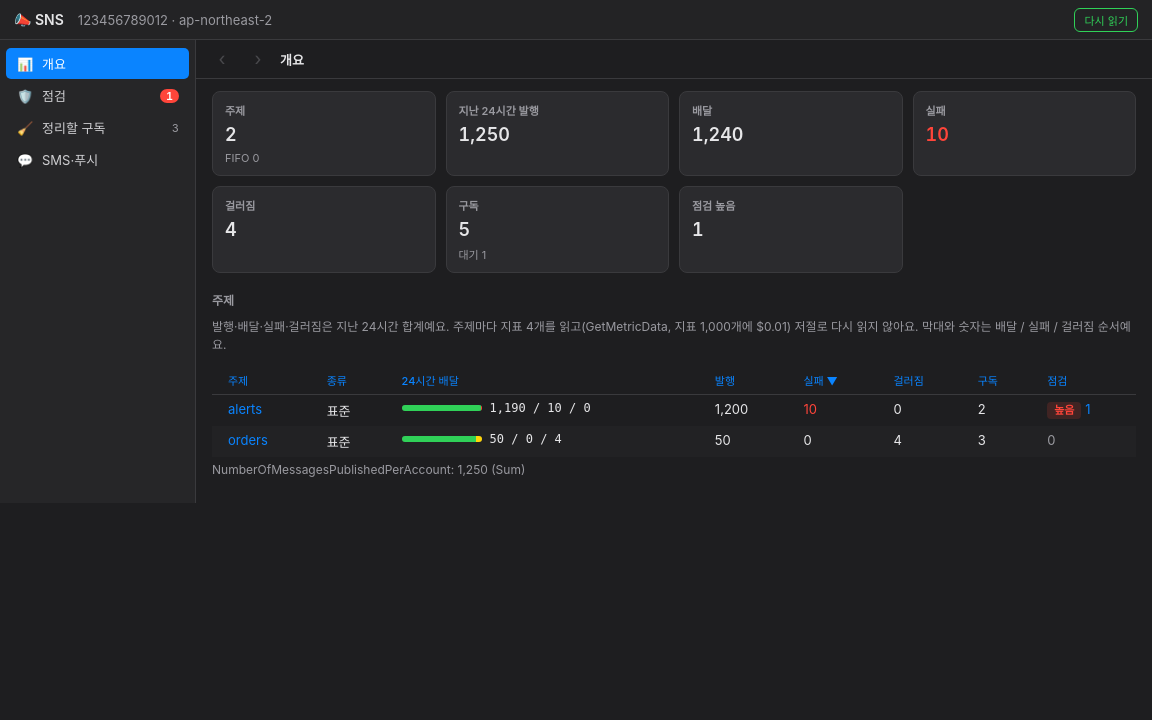
it: previously disabled checks can be turned back on
Check: the table "주제" is shown, box left=212, top=366, right=1136, bottom=457
Step 1. Click the button "🛡️ 점검 1" → (98,96), box left=6, top=80, right=189, bottom=111
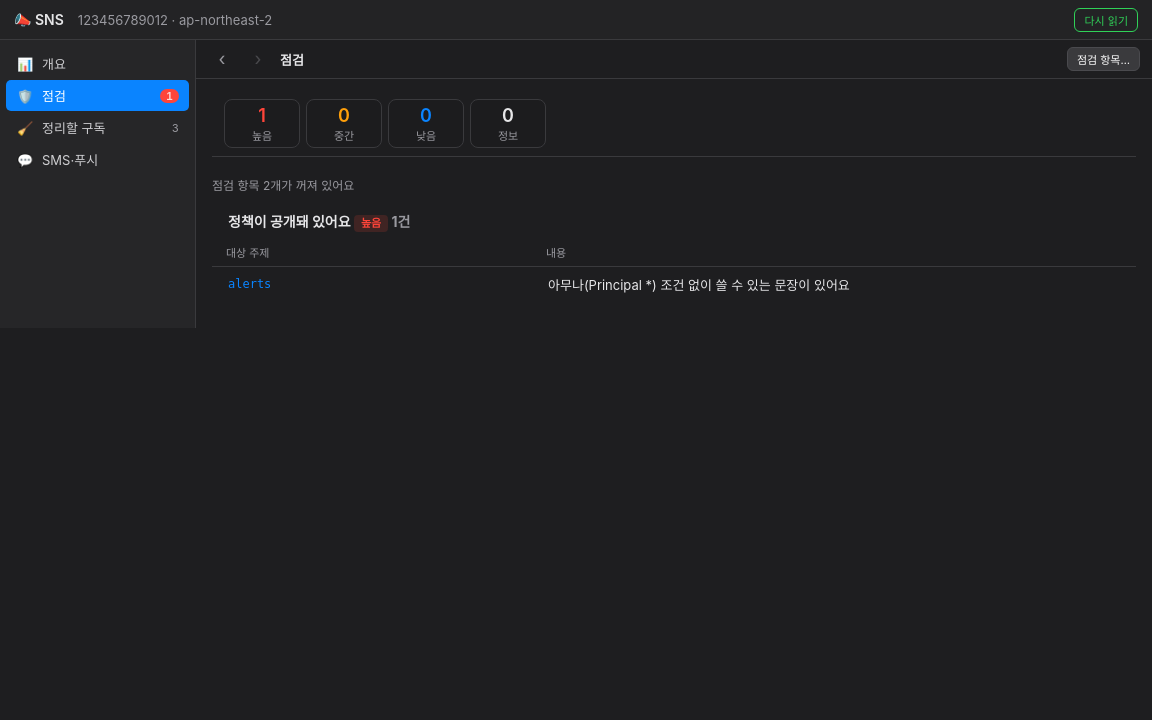
Step 2. Click the button "점검 항목…" → (1103,59), box left=1067, top=47, right=1140, bottom=71
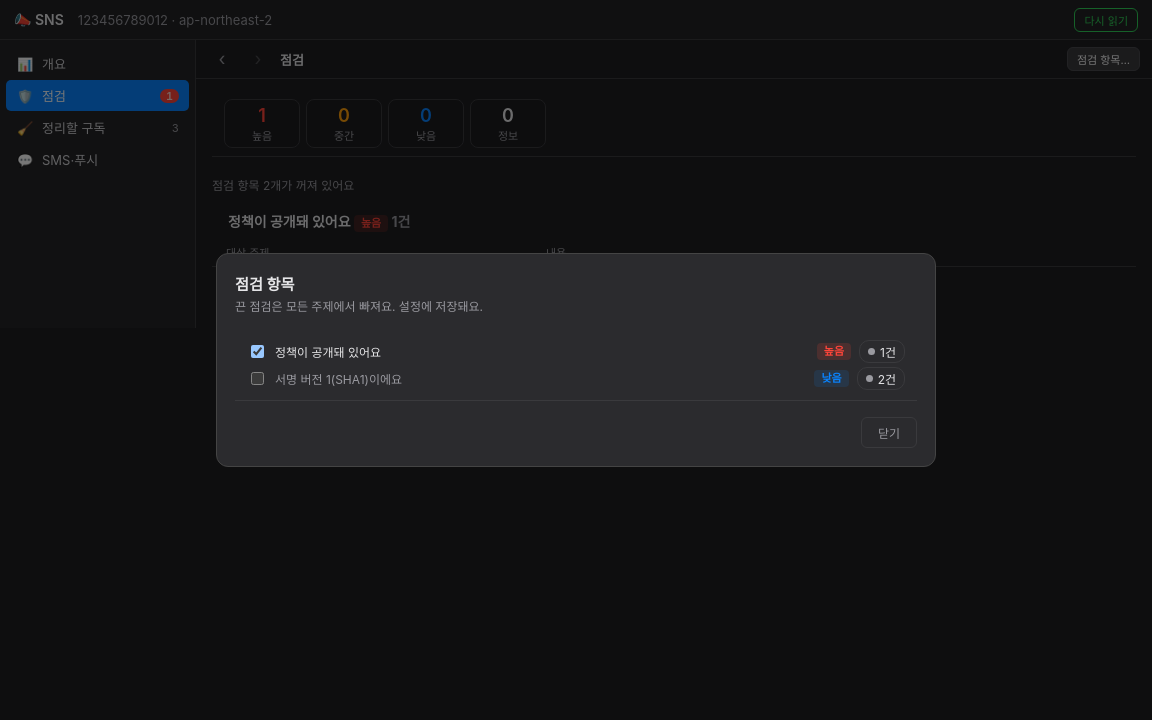
Check: the checkbox named "서명 버전 1(SHA1)이에요 점검 켜기" is not checked
Step 3. Click the checkbox named "서명 버전 1(SHA1)이에요 점검 켜기" → (258,378), box left=251, top=372, right=264, bottom=385
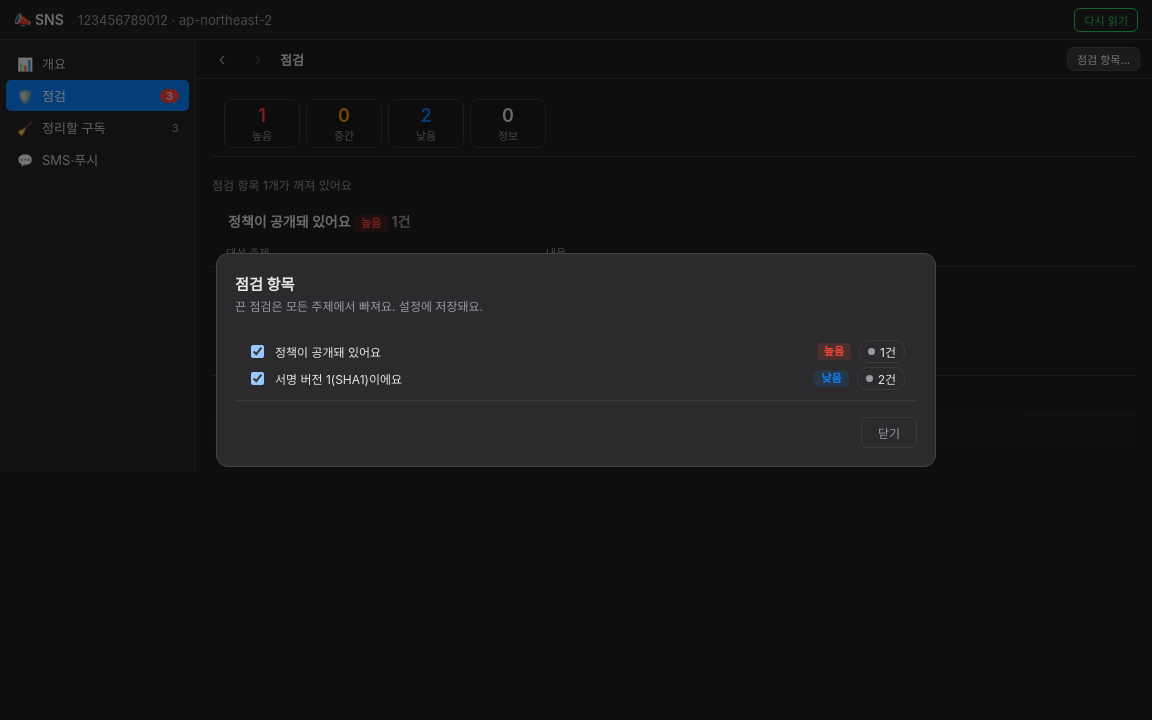
Check: the table named "서명 버전 1(SHA1)이에요" is shown, box left=212, top=347, right=1136, bottom=446
